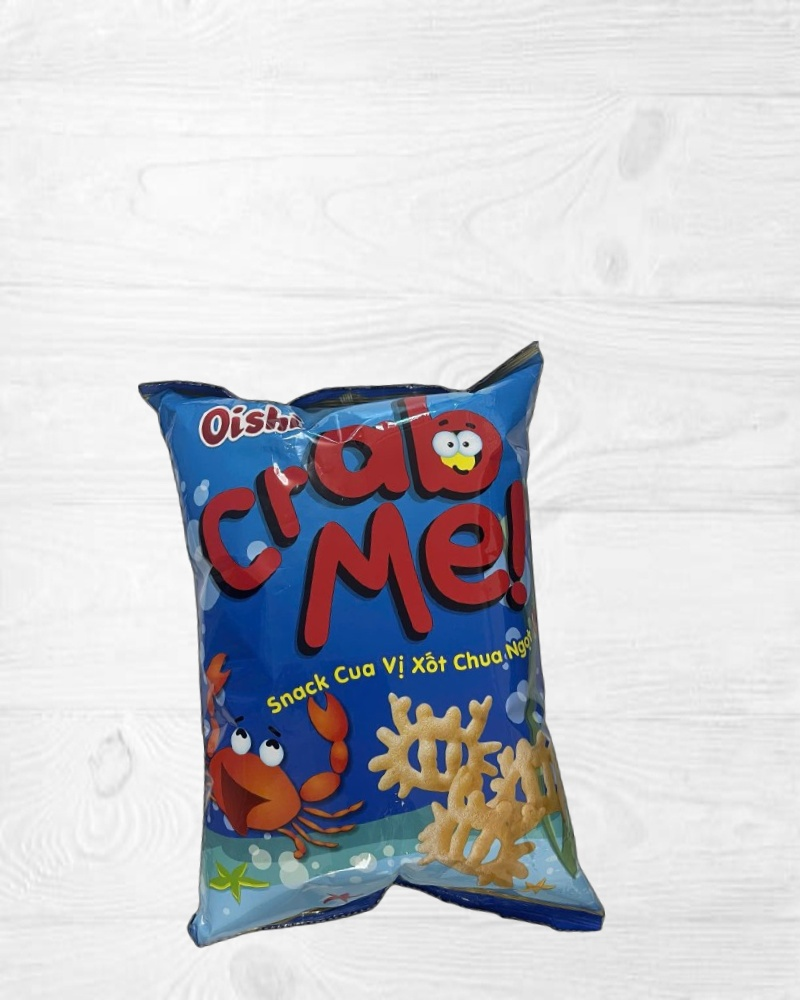Snack cua: (138, 340, 606, 961)
